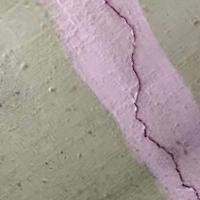crack: (97, 1, 199, 193)
